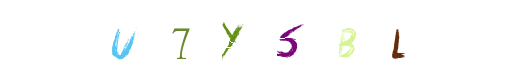7: (181, 0, 261, 80)
B: (272, 0, 352, 80)
L: (356, 0, 436, 80)
S: (249, 0, 329, 80)
U: (81, 0, 161, 80)
Y: (225, 0, 305, 80)
